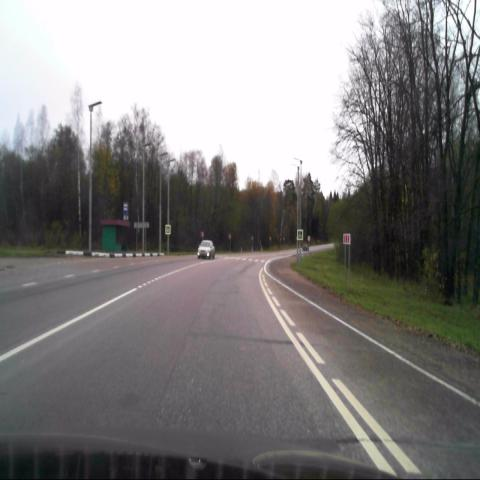5_19_1: (297, 229, 303, 240)
